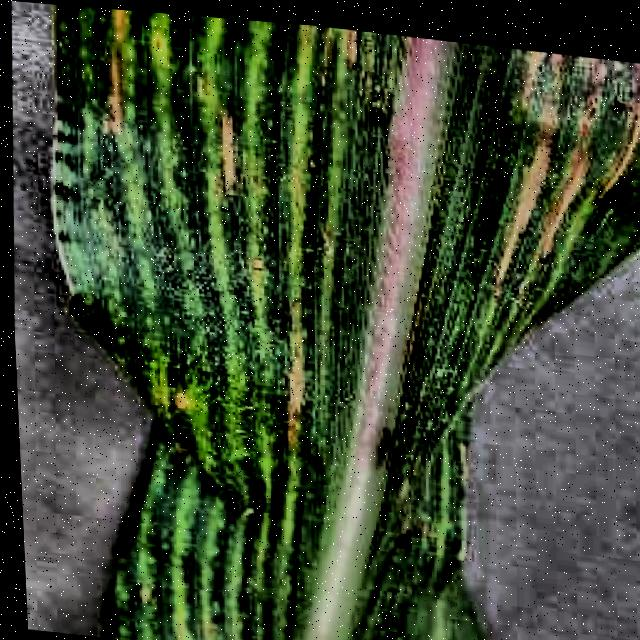gray_spot: (40, 3, 640, 640)
